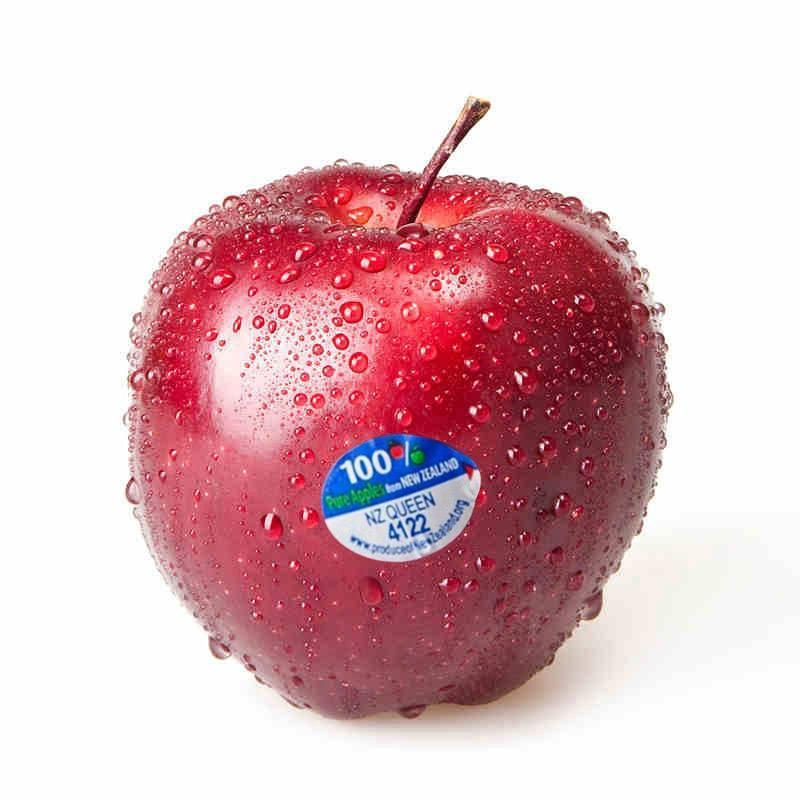apple: (121, 112, 669, 707)
